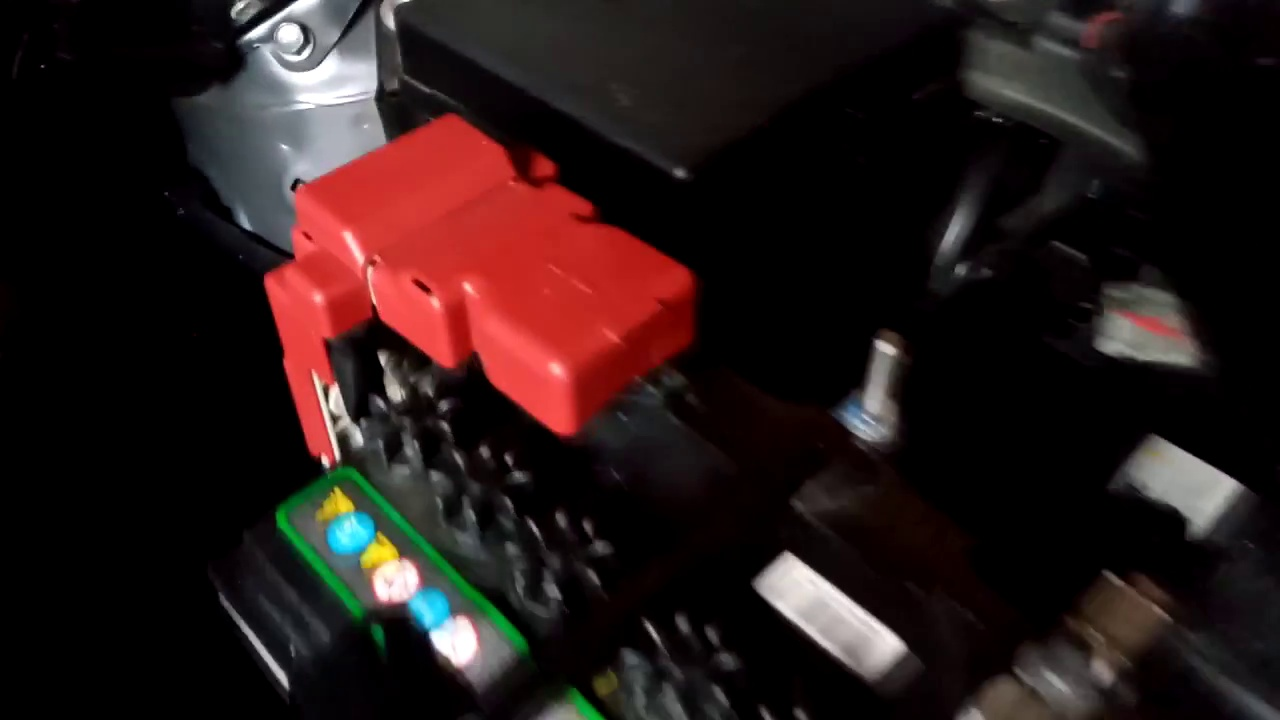battery: (212, 296, 926, 720)
pos_connected: (268, 130, 574, 450)
